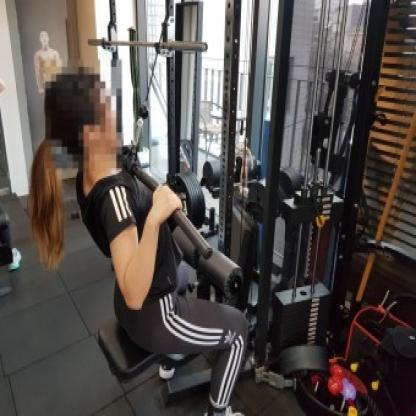Lat Pull Down: (27, 0, 357, 416)
